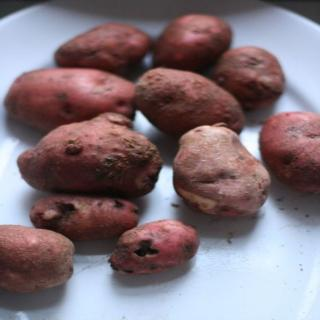Potato: (0, 14, 319, 274), (0, 224, 76, 295)
